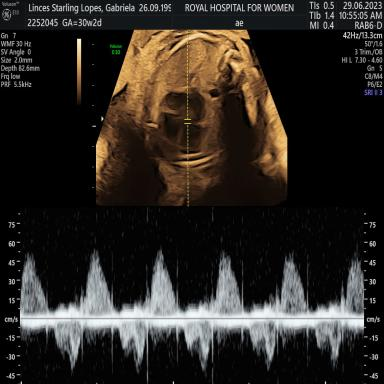Ultrasound-Waves: (27, 209, 362, 384)
